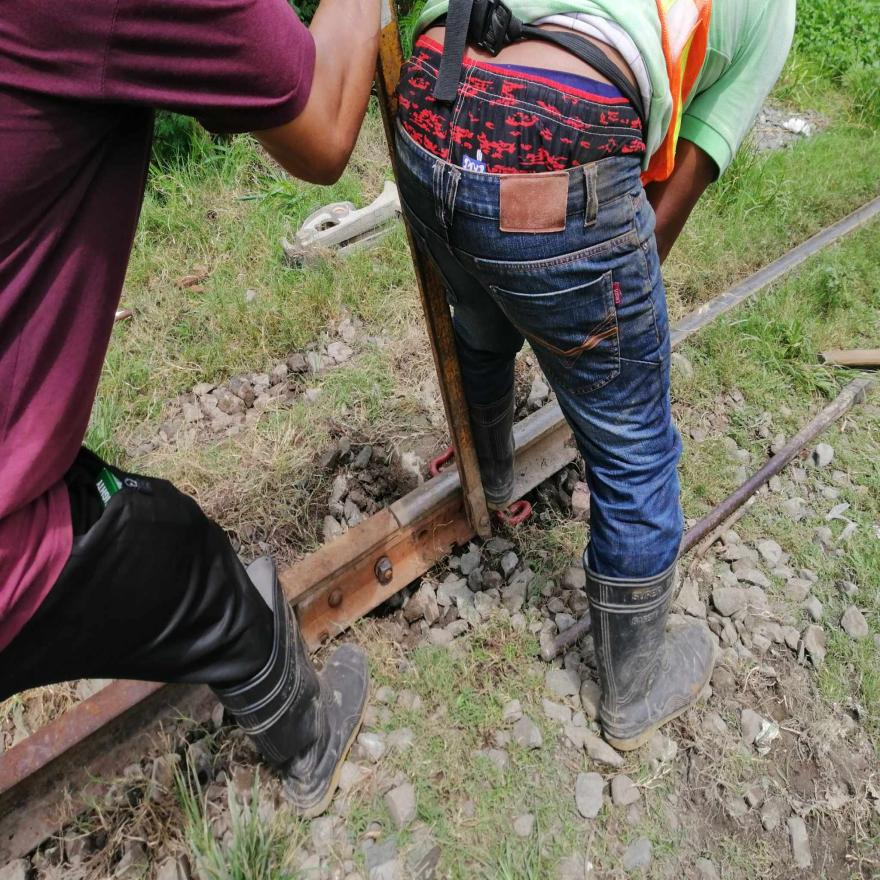railway-gap: (369, 490, 418, 548)
